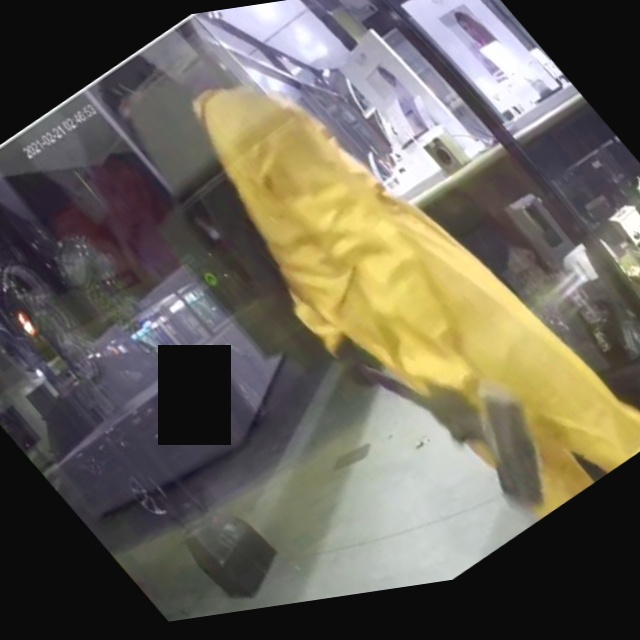gun: (319, 268, 597, 559)
